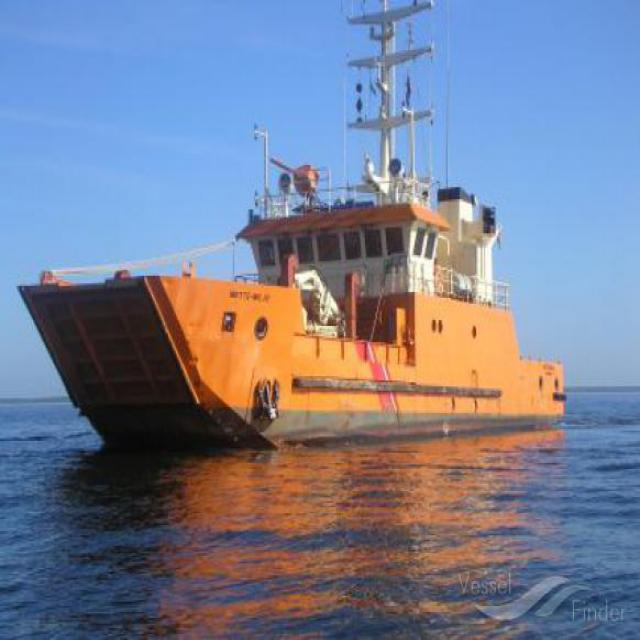Naval Ship: (17, 6, 566, 446)
